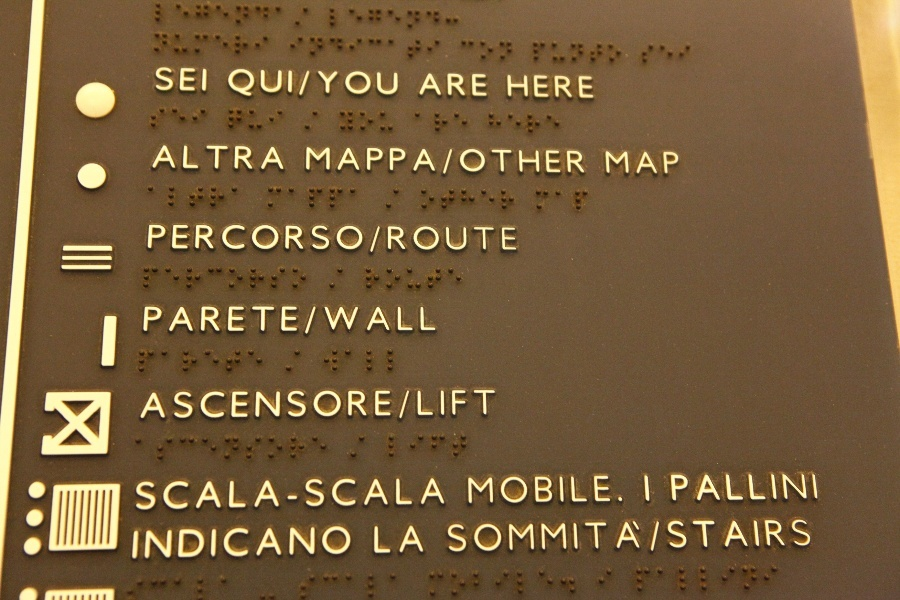text: (145, 476, 160, 515), (161, 476, 176, 515), (177, 476, 192, 515), (193, 476, 208, 515), (209, 476, 224, 515), (225, 476, 240, 515), (241, 476, 256, 515), (257, 476, 272, 515), (273, 476, 288, 515), (289, 476, 304, 515), (305, 476, 320, 515), (321, 476, 336, 515), (337, 476, 352, 515), (353, 476, 368, 515), (369, 476, 384, 515), (385, 476, 400, 515), (401, 476, 416, 515), (417, 476, 432, 515), (433, 476, 448, 515), (449, 517, 464, 556), (465, 517, 480, 556), (481, 517, 496, 556), (497, 517, 512, 556), (513, 517, 528, 556), (529, 517, 544, 556), (545, 517, 560, 556), (561, 517, 576, 556), (577, 517, 592, 556), (593, 517, 608, 556), (609, 517, 624, 556), (625, 517, 640, 556), (641, 517, 656, 556), (657, 517, 672, 556), (673, 517, 688, 556), (689, 517, 704, 556), (705, 517, 720, 556), (721, 517, 736, 556), (737, 517, 752, 556), (753, 517, 768, 556), (769, 517, 784, 556), (785, 517, 800, 556), (145, 524, 160, 561), (161, 524, 176, 561), (177, 524, 192, 561), (193, 524, 208, 561), (209, 524, 224, 561), (225, 524, 240, 561), (241, 524, 256, 561), (257, 524, 272, 561), (273, 524, 288, 561), (289, 524, 304, 561), (305, 524, 320, 561), (321, 524, 336, 561), (337, 524, 352, 561), (305, 146, 320, 180), (321, 146, 336, 180), (337, 146, 352, 180), (353, 146, 368, 180), (369, 146, 384, 180), (385, 146, 400, 180), (401, 146, 416, 180), (417, 146, 432, 180), (433, 146, 448, 180), (449, 146, 464, 180), (465, 146, 480, 180), (481, 146, 496, 180), (497, 146, 512, 180), (513, 146, 528, 180), (529, 146, 544, 180), (545, 146, 560, 180), (561, 146, 576, 180), (161, 223, 176, 257), (177, 223, 192, 257), (193, 223, 208, 257), (209, 223, 224, 257), (225, 223, 240, 257), (241, 223, 256, 257), (257, 223, 272, 257), (273, 223, 288, 257), (289, 223, 304, 257), (305, 223, 320, 257), (321, 223, 336, 257), (337, 223, 352, 257), (353, 223, 368, 257), (369, 223, 384, 257), (385, 223, 400, 257), (401, 223, 416, 257), (417, 223, 432, 257), (433, 223, 448, 257), (449, 223, 464, 257), (465, 223, 480, 257), (481, 223, 496, 257), (497, 223, 512, 257), (161, 387, 176, 421), (177, 387, 192, 421), (193, 387, 208, 421), (209, 387, 224, 421), (225, 387, 240, 421), (241, 387, 256, 421), (257, 387, 272, 421), (273, 387, 288, 421), (289, 387, 304, 421), (305, 387, 320, 421), (321, 387, 336, 421), (337, 387, 352, 421), (353, 387, 368, 421), (369, 387, 384, 421), (385, 387, 400, 421), (401, 387, 416, 421), (417, 387, 432, 421), (433, 387, 448, 421), (449, 387, 464, 421), (465, 387, 480, 421), (481, 387, 496, 421), (145, 305, 160, 338), (161, 305, 176, 338), (177, 305, 192, 338), (193, 305, 208, 338), (209, 305, 224, 338), (225, 305, 240, 338), (241, 305, 256, 338), (257, 305, 272, 338), (273, 305, 288, 338), (289, 305, 304, 338), (305, 305, 320, 338), (321, 305, 336, 338), (337, 305, 352, 338), (353, 305, 368, 338), (369, 305, 384, 338), (385, 305, 400, 338), (401, 305, 416, 338), (417, 305, 432, 338), (481, 473, 496, 506), (497, 473, 512, 506), (513, 473, 528, 506), (529, 473, 544, 506), (545, 473, 560, 506), (561, 473, 576, 506), (577, 473, 592, 506), (593, 473, 608, 506), (609, 473, 624, 506), (801, 517, 813, 556), (673, 472, 688, 503), (689, 472, 704, 503), (705, 472, 720, 503), (721, 472, 736, 503), (737, 472, 752, 503), (753, 472, 768, 503), (769, 472, 784, 503), (785, 472, 800, 503), (801, 472, 816, 503), (241, 68, 256, 98), (257, 68, 272, 98), (273, 68, 288, 98), (289, 68, 304, 98), (305, 68, 320, 98), (321, 68, 336, 98), (337, 68, 352, 98), (353, 68, 368, 98), (369, 68, 384, 98), (385, 525, 400, 555), (401, 525, 416, 555), (132, 524, 144, 561), (147, 223, 160, 257), (467, 473, 480, 506), (385, 68, 399, 98), (161, 66, 176, 93), (177, 66, 192, 93), (193, 66, 208, 93), (177, 144, 192, 171), (193, 144, 208, 171), (209, 144, 224, 171), (225, 144, 240, 171), (241, 144, 256, 171), (257, 144, 272, 171), (433, 72, 448, 99), (449, 72, 464, 99), (465, 72, 480, 99), (513, 75, 528, 102), (529, 75, 544, 102), (545, 75, 560, 102), (561, 75, 576, 102), (577, 75, 592, 102), (609, 151, 624, 176), (625, 151, 640, 176), (641, 151, 656, 176), (657, 151, 672, 176), (577, 146, 588, 180), (643, 475, 656, 503), (228, 68, 240, 98), (163, 144, 176, 171), (273, 144, 286, 171), (135, 476, 144, 515), (151, 387, 160, 421), (374, 525, 384, 555), (417, 525, 426, 555), (433, 305, 441, 338), (481, 72, 489, 99), (673, 151, 680, 176), (513, 223, 518, 257), (506, 75, 512, 102), (155, 66, 160, 93), (427, 72, 432, 99), (625, 473, 628, 506), (446, 517, 448, 556), (605, 151, 608, 176), (142, 305, 144, 338), (670, 472, 672, 503), (817, 472, 819, 503), (593, 75, 595, 102), (497, 387, 498, 421)
